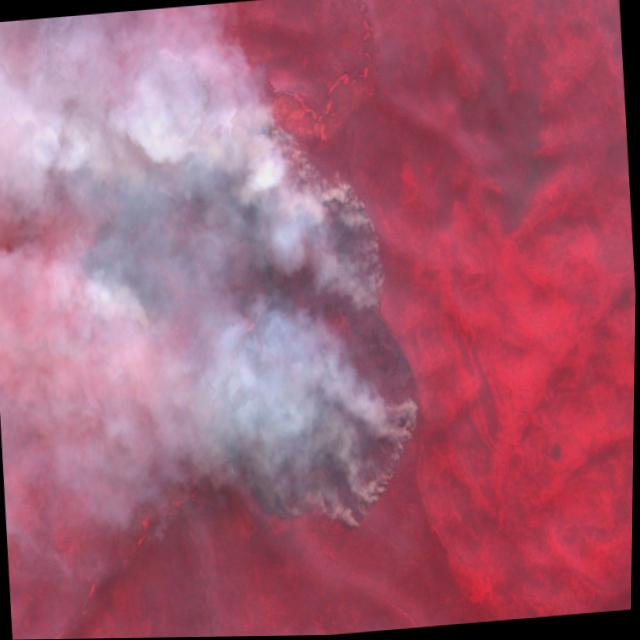fire: (56, 96, 444, 569)
